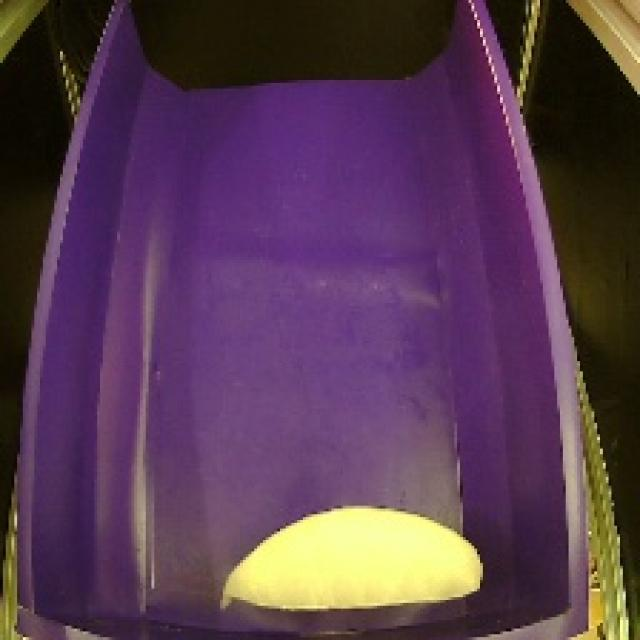white_radish: (210, 497, 491, 617)
